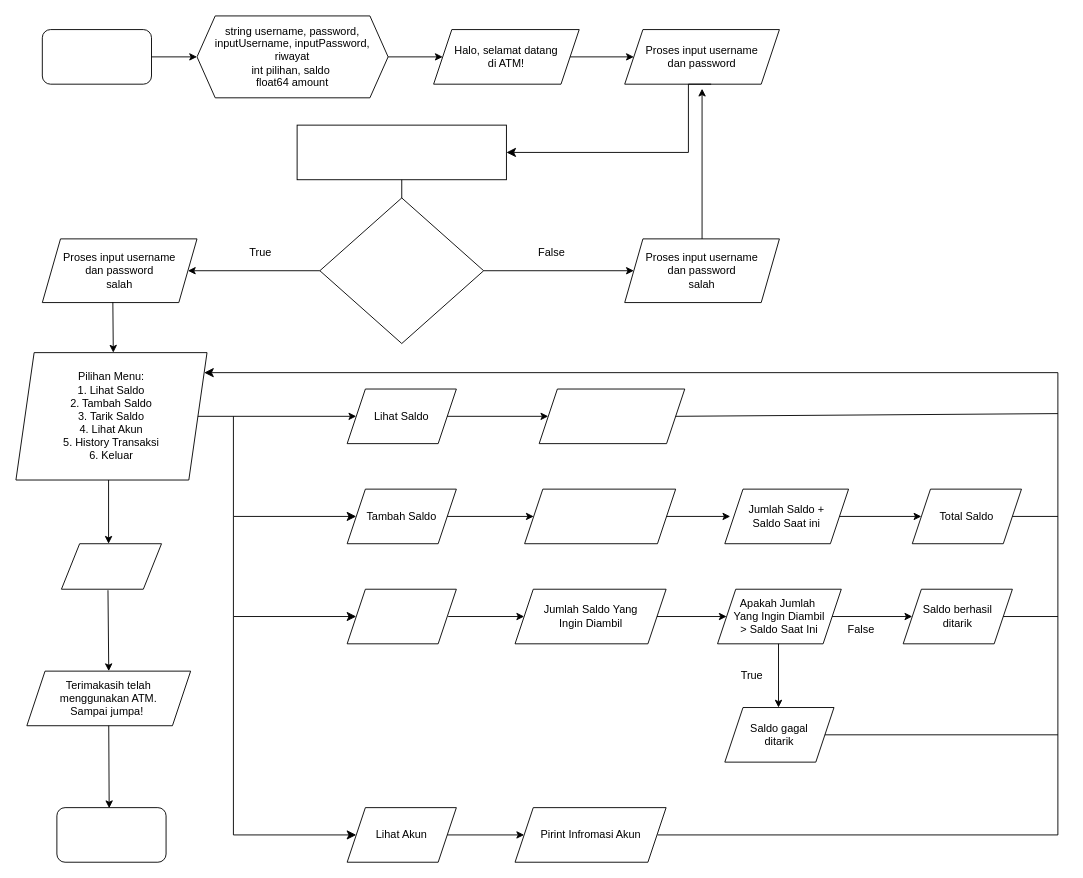
Image size: 1083x878. Some labels were removed from this diagram. The centre of each missing label's shape, as x and y in pixels:
"6. Keluar" belongs at (111,566).
"apakah username dan password sudah sesuai" belongs at (401,270).
"End" belongs at (111,834).
"Jumlah Saldo Yang Ingin Ditambahkan" belongs at (600,516).
"Print Saldo Saat Ini" belongs at (611,416).
"Proses validasi input username dan password" belongs at (401,152).
"Start" belongs at (96,56).
"Tarik Saldo" belongs at (401,616).
